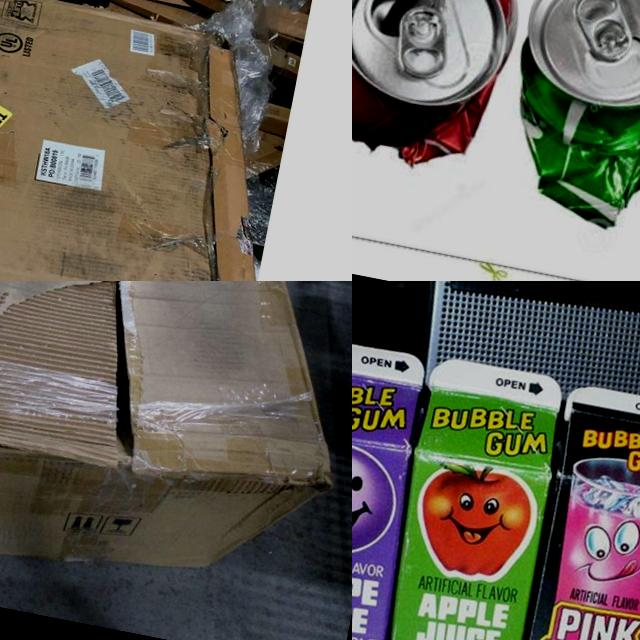aba de lata: (390, 0, 460, 84), (565, 0, 640, 66)
caixinha: (372, 352, 573, 640), (511, 381, 640, 640), (352, 329, 444, 640)
lata: (490, 0, 640, 243), (352, 0, 538, 183)
papelão: (0, 281, 352, 620), (0, 0, 305, 281)
